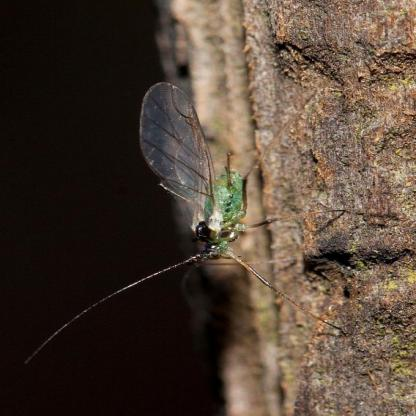aphid: (41, 78, 318, 365)
